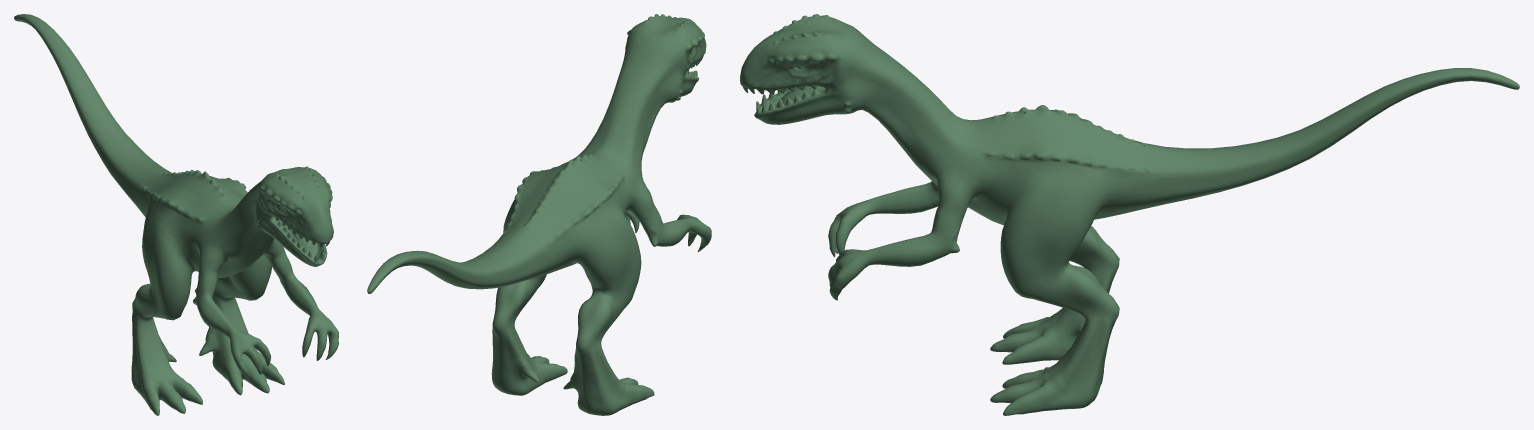
File: dino.dae
The picture shows the model from 3 angles, left to right: view 1: azimuth 30°, elevation 25°; view 2: azimuth 150°, elevation 25°; view 3: azimuth 270°, elevation 25°; orthographic projection. The views are drawn at different scales.
Visible parts, largest first — view 1: creature_mesh_multires; view 2: creature_mesh_multires; view 3: creature_mesh_multires.
Part boxes in pixels (x1,y1,x2,y2): creature_mesh_multires: (14, 14, 338, 415); creature_mesh_multires: (367, 14, 711, 415); creature_mesh_multires: (740, 14, 1519, 415).
Size of the model in its own units: 2.35 by 9.83 by 4.92.
